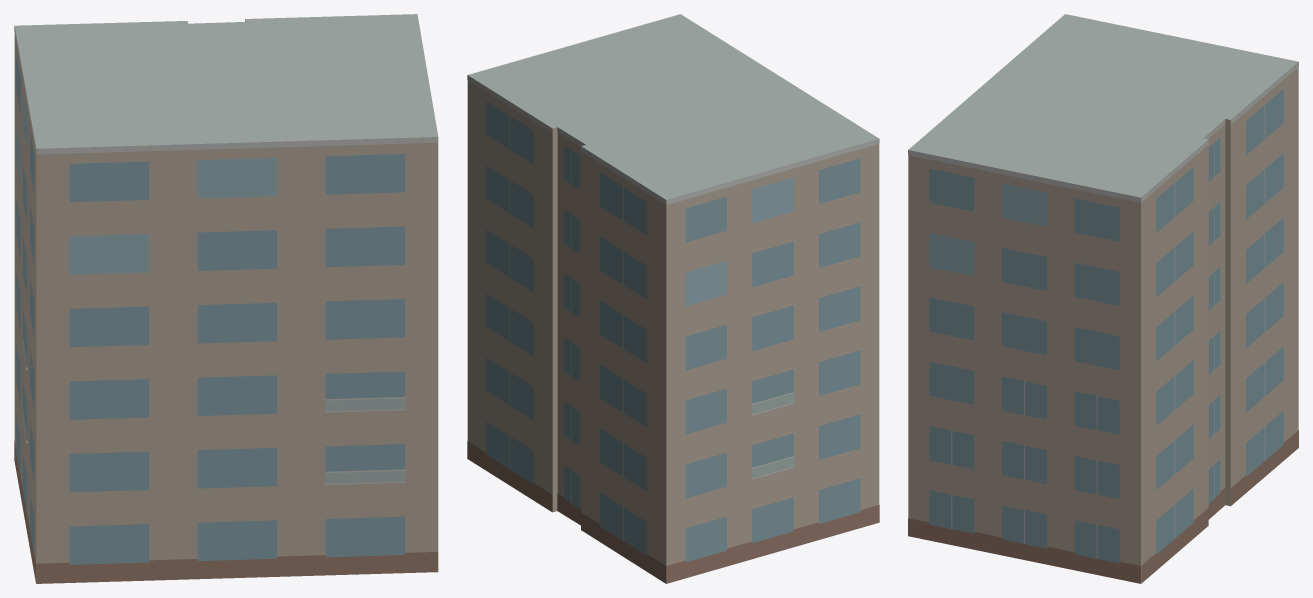
File: survey-upis-32944157.glb
The picture shows the model from 3 angles, left to right: view 1: azimuth 30°, elevation 25°; view 2: azimuth 150°, elevation 25°; view 3: azimuth 270°, elevation 25°; orthographic projection. The views are drawn at different scales.
Parts seen in each view (by area): view 1: survey-upis-32944157.tmp; view 2: survey-upis-32944157.tmp; view 3: survey-upis-32944157.tmp.
Part boxes in pixels (<box>): survey-upis-32944157.tmp: <box>14,14,438,583</box>; survey-upis-32944157.tmp: <box>467,14,879,583</box>; survey-upis-32944157.tmp: <box>908,14,1298,583</box>.
Bounding box in the file's own units: 18.67 × 18.3 × 16.78.
